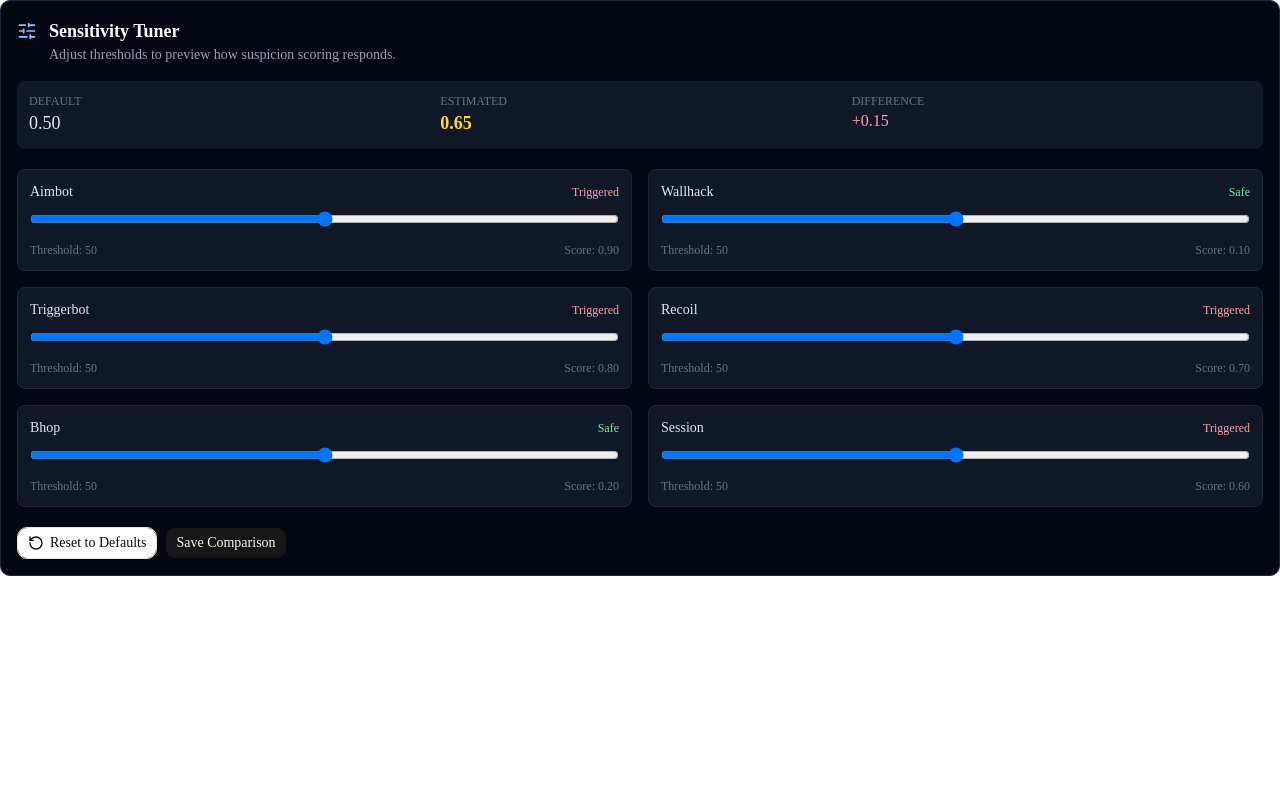
Test: SensitivityTuner › updates the estimated score when a threshold changes
Set the slider named "Aimbot threshold" to "95" at (582, 219), box [30, 211, 619, 227]
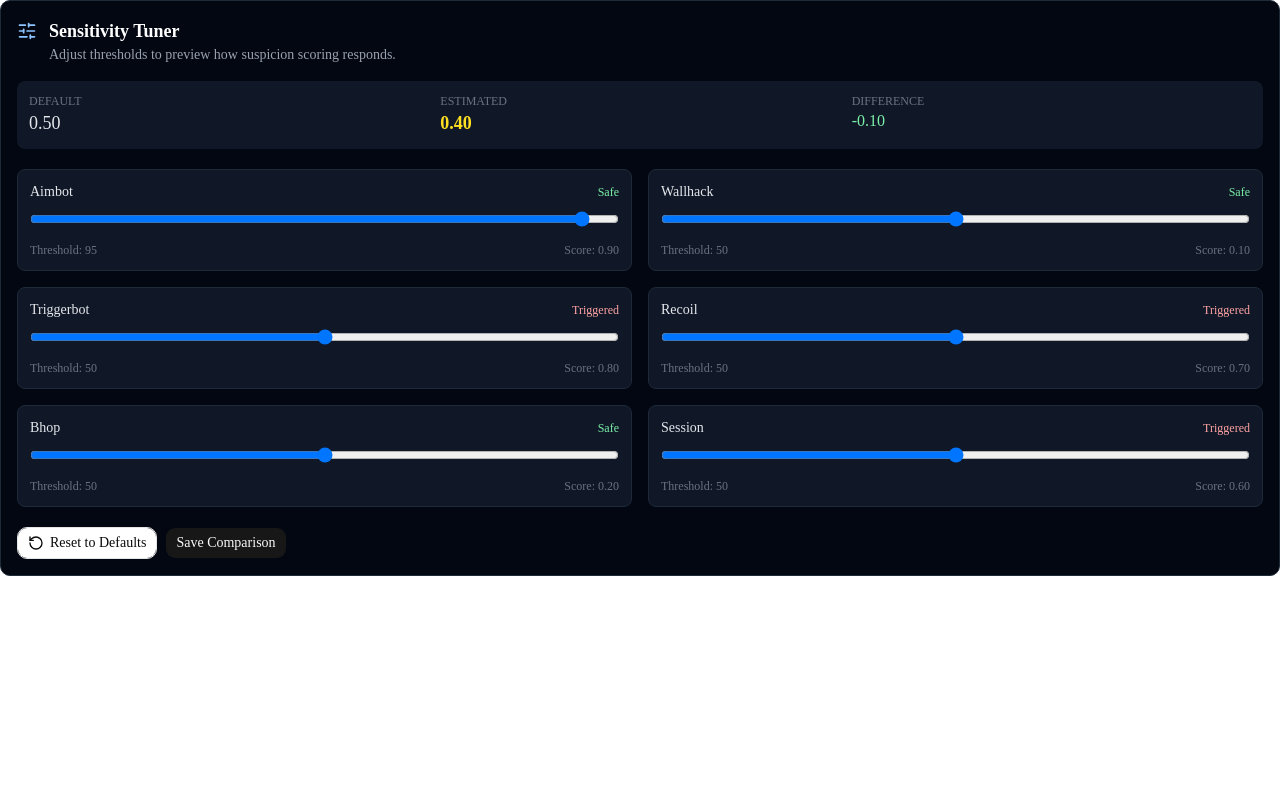
Check: the text "0.40" is shown, box [440, 113, 472, 133]
